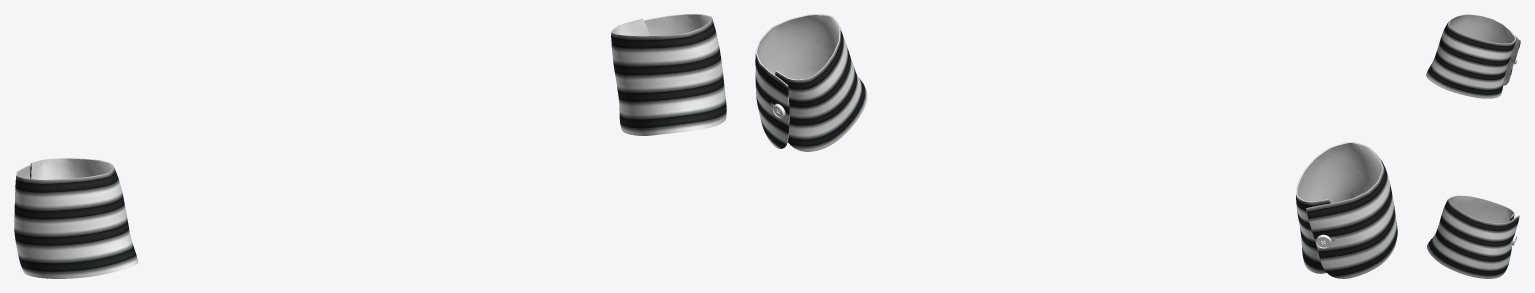
File: Barrel_Cuff.glb
3 views of the same model, side by side, from view 1: azimuth 30°, elevation 25°; view 2: azimuth 150°, elevation 25°; view 3: azimuth 270°, elevation 25° (orthographic). The views are drawn at different scales.
Parts seen in each view (by area): view 1: Pattern_2052443_Node, Pattern_2052444_Node; view 2: Pattern_2052444_Node, Pattern_2052443_Node; view 3: Pattern_2052443_Node, Pattern_2052444_Node.
Part boxes in pixels (<box>): Pattern_2052443_Node: <box>14,158,138,278</box>; Pattern_2052444_Node: <box>611,14,726,135</box>; Pattern_2052444_Node: <box>755,14,867,151</box>; Pattern_2052443_Node: <box>1296,142,1397,278</box>; Pattern_2052443_Node: <box>1426,14,1520,98</box>; Pattern_2052444_Node: <box>1427,195,1519,278</box>.
Size of the model in its own units: 60.26 by 9.94 by 11.71.
10 materials, 4 textured.
